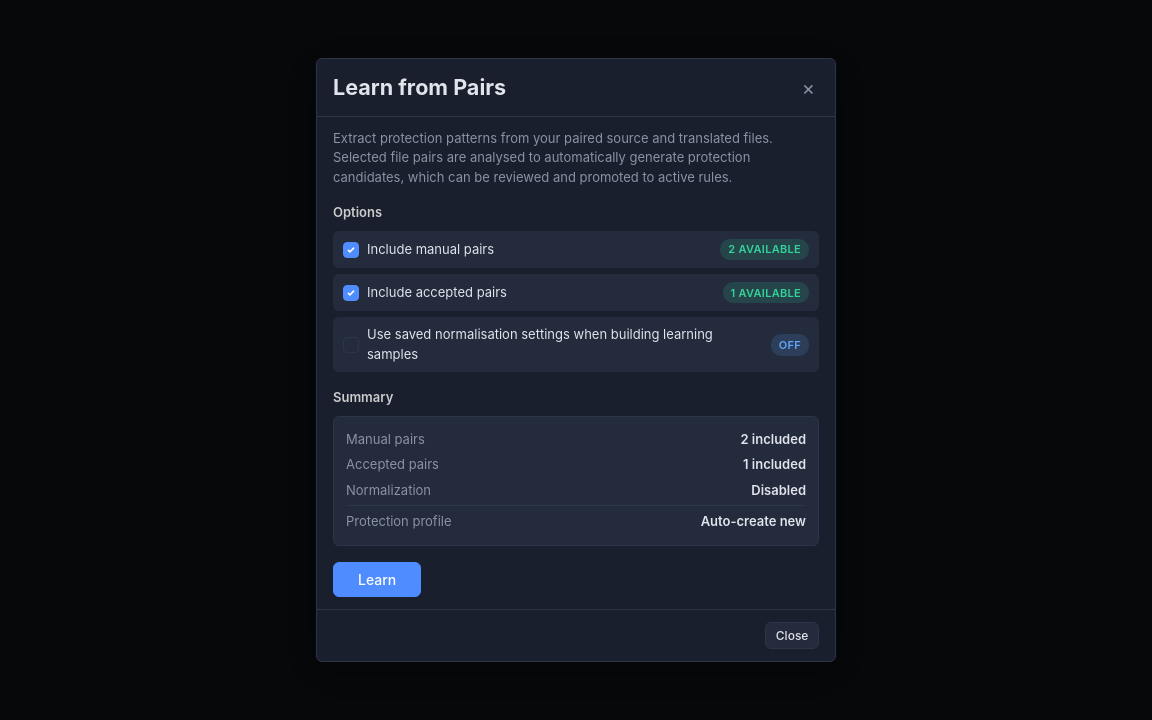
it: LearnDialog › shows warning when result error field is set
Click the button "Learn": click(377, 579) [333,562,421,597]
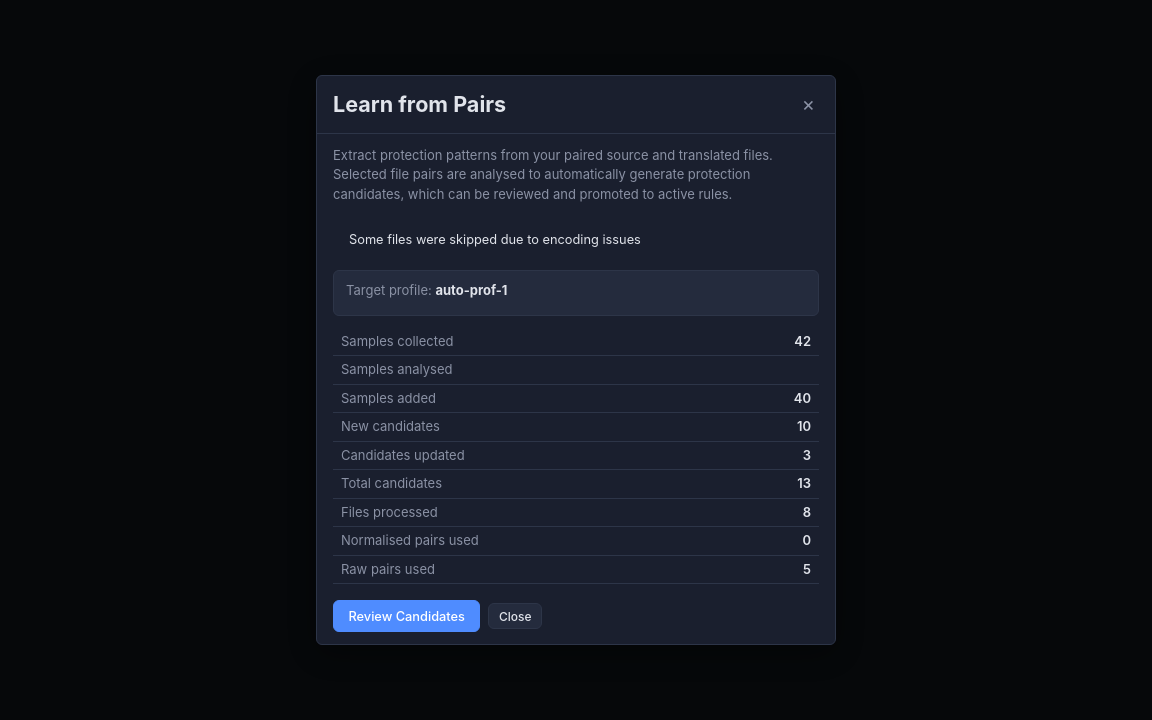
Check: the text "Some files were skipped due to encoding issues" is shown, box [349,232,641,247]
